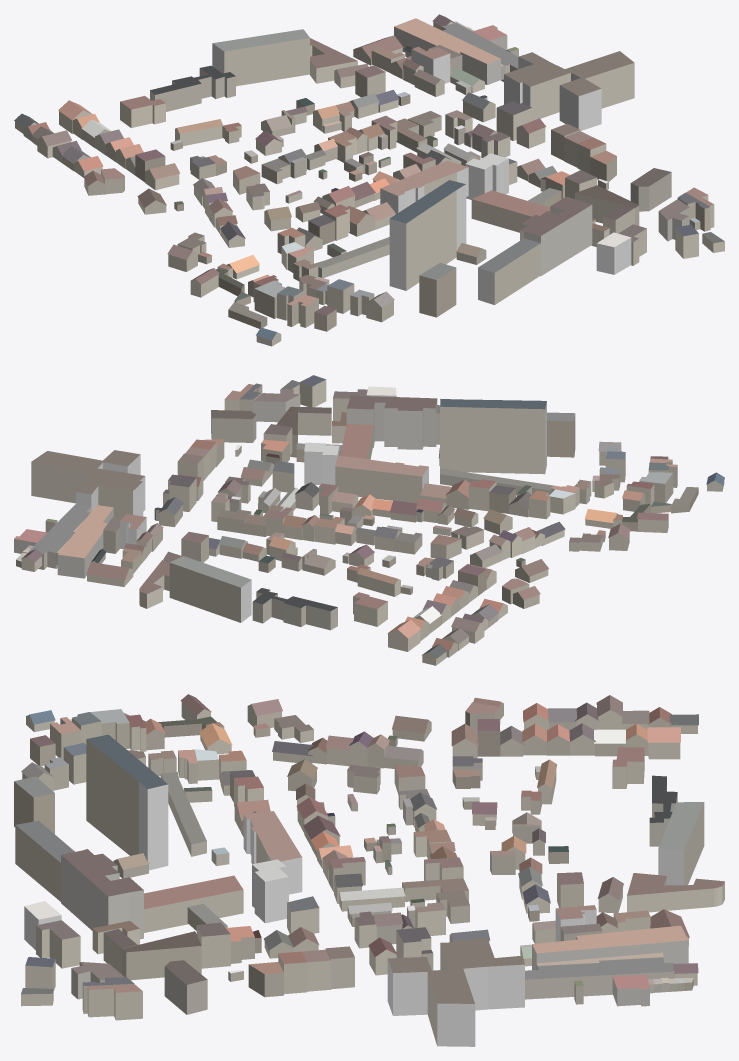
3 views of the same model, one above another, from view 1: azimuth 30°, elevation 25°; view 2: azimuth 150°, elevation 25°; view 3: azimuth 270°, elevation 25° (orthographic). The views are drawn at different scales.
Visible parts, largest first — view 1: tuile; view 2: tuile; view 3: tuile.
Boxes of the visible parts, bbox=[...] form: tuile: bbox=[14, 14, 724, 346]; tuile: bbox=[14, 375, 724, 665]; tuile: bbox=[14, 694, 724, 1046].
Bounding box in the file's own units: 289 × 40.31 × 270.
